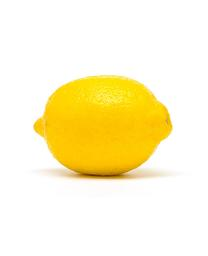lemon: (35, 75, 174, 177)
